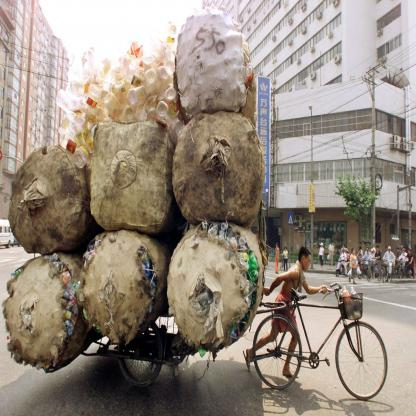overloaded-truck: (0, 7, 272, 360)
